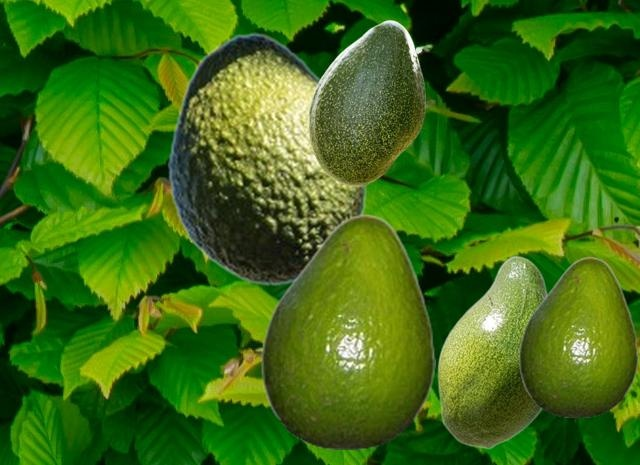avocado: (166, 32, 367, 285), (260, 213, 434, 448), (437, 255, 547, 448), (308, 20, 424, 185), (518, 256, 637, 416)
